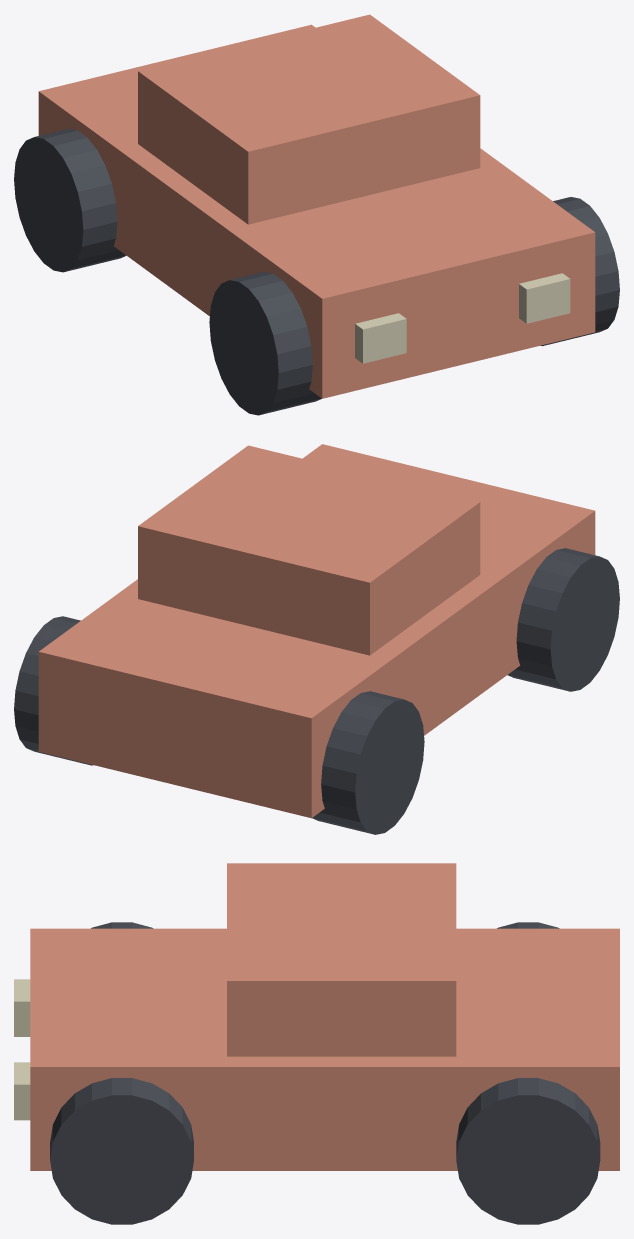
The model's file is rc-car.glb.
3 views of the same model, one above another, from view 1: azimuth 30°, elevation 25°; view 2: azimuth 150°, elevation 25°; view 3: azimuth 270°, elevation 25° (orthographic). The views are drawn at different scales.
Parts seen in each view (by area): view 1: body, cabin, wheel_FL, wheel_RL, wheel_FR, light_0, light_1; view 2: body, cabin, wheel_FL, wheel_RL, wheel_RR; view 3: body, cabin, wheel_RR, wheel_FR, light_1, light_0.
Boxes of the visible parts, <box> form: body: <box>38,24,595,398</box>; cabin: <box>138,14,480,224</box>; wheel_FL: <box>209,272,321,415</box>; wheel_RL: <box>14,128,126,272</box>; wheel_FR: <box>540,197,619,346</box>; light_0: <box>355,313,406,363</box>; light_1: <box>519,273,570,323</box>; body: <box>38,444,595,818</box>; cabin: <box>138,445,480,655</box>; wheel_FL: <box>507,548,619,691</box>; wheel_RL: <box>312,691,424,834</box>; wheel_RR: <box>14,616,93,765</box>; body: <box>30,928,619,1170</box>; cabin: <box>227,863,456,1056</box>; wheel_RR: <box>456,1078,600,1224</box>; wheel_FR: <box>50,1078,193,1224</box>; light_1: <box>14,1062,30,1120</box>; light_0: <box>14,979,30,1036</box>.
Bounding box in the file's own units: 0.125 × 0.0728 × 0.185.
